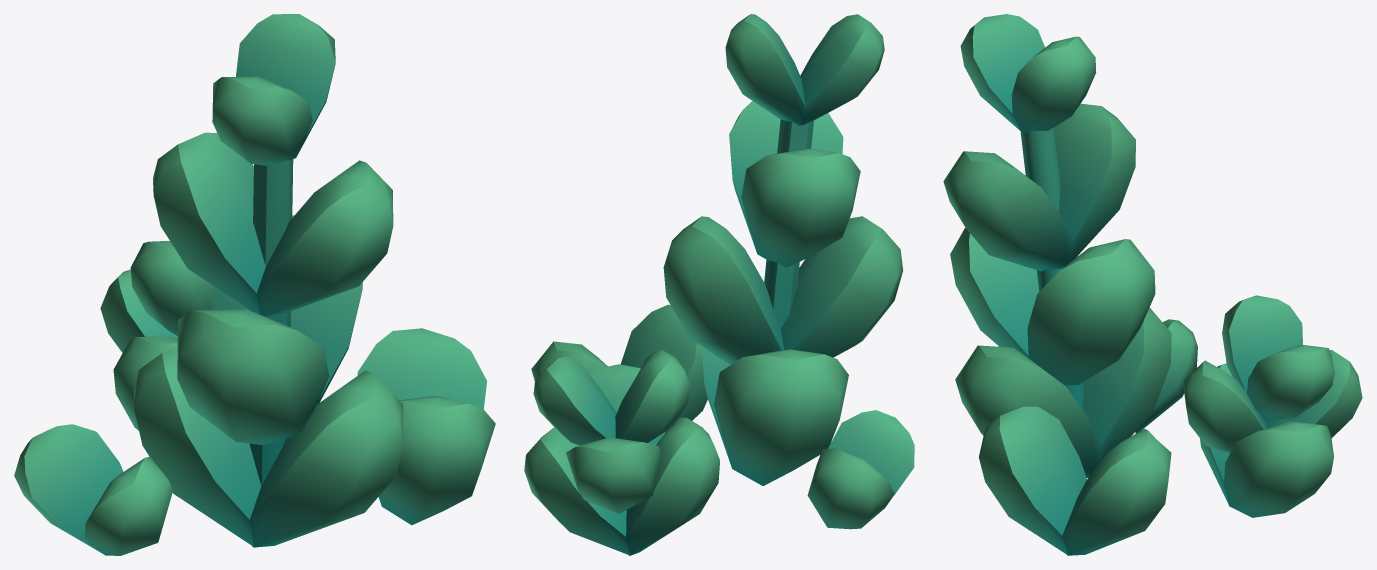
3 views of the same model, side by side, from view 1: azimuth 30°, elevation 25°; view 2: azimuth 150°, elevation 25°; view 3: azimuth 270°, elevation 25° (orthographic). The views are drawn at different scales.
Visible parts, largest first — view 1: LOD 0_13142735058292916171_864aa3741cb91814880953315ea2c192; view 2: LOD 0_13142735058292916171_864aa3741cb91814880953315ea2c192; view 3: LOD 0_13142735058292916171_864aa3741cb91814880953315ea2c192.
Part boxes in pixels (x1,y1,x2,y2): LOD 0_13142735058292916171_864aa3741cb91814880953315ea2c192: (14, 14, 495, 555); LOD 0_13142735058292916171_864aa3741cb91814880953315ea2c192: (524, 14, 914, 555); LOD 0_13142735058292916171_864aa3741cb91814880953315ea2c192: (943, 14, 1362, 555).
Bounding box in the file's own units: 0.6529 × 0.7995 × 0.6565.
